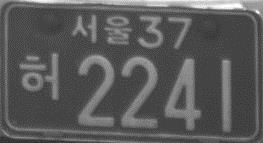1: (216, 56, 239, 134)
2: (119, 56, 161, 131), (77, 54, 118, 127)
3: (136, 13, 164, 50)
4: (161, 57, 202, 131)
7: (165, 14, 193, 50)
서울_O: (70, 12, 134, 45)
허: (18, 51, 63, 103)
